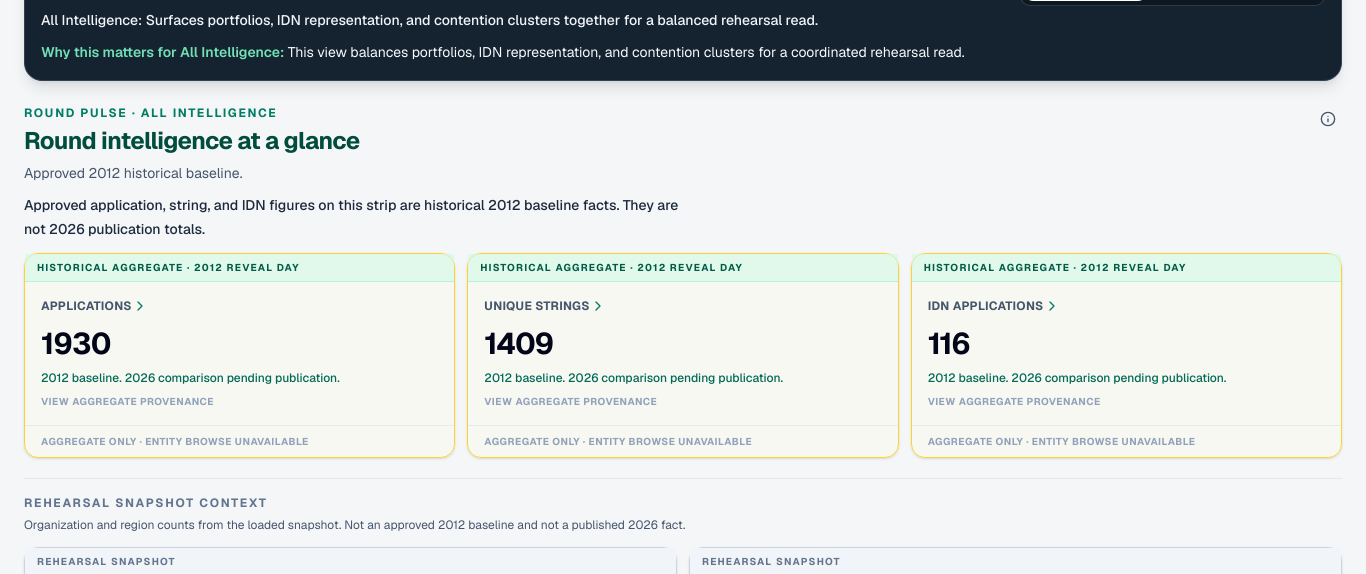
Investigate — shared intelligence drawer › separates approved 2012 historical aggregates from rehearsal entity browse in Round Pulse
(page scrolled)
Click the button with aria-label "View intelligence for Applications: 1930" at (86, 306), box [25,282,454,425]
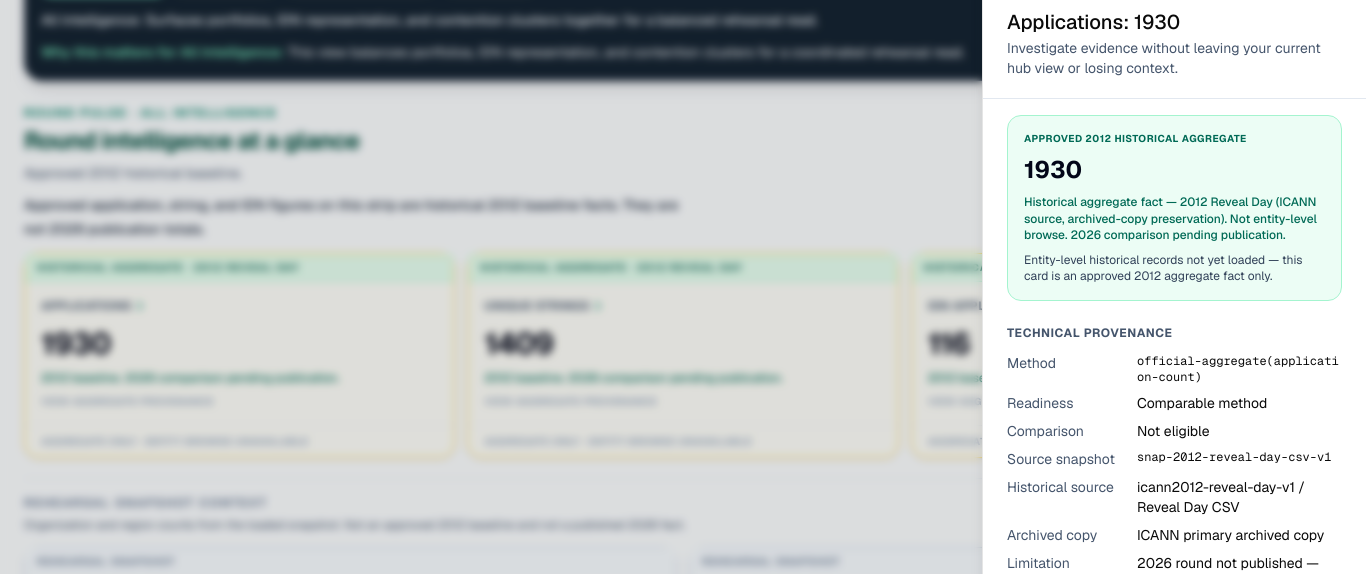
Now the text "Approved 2012 historical aggregate" is shown, box [1024,132,1247,145]
Now the text "Entity-level historical records not yet loaded" is shown, box [1024,252,1302,284]
